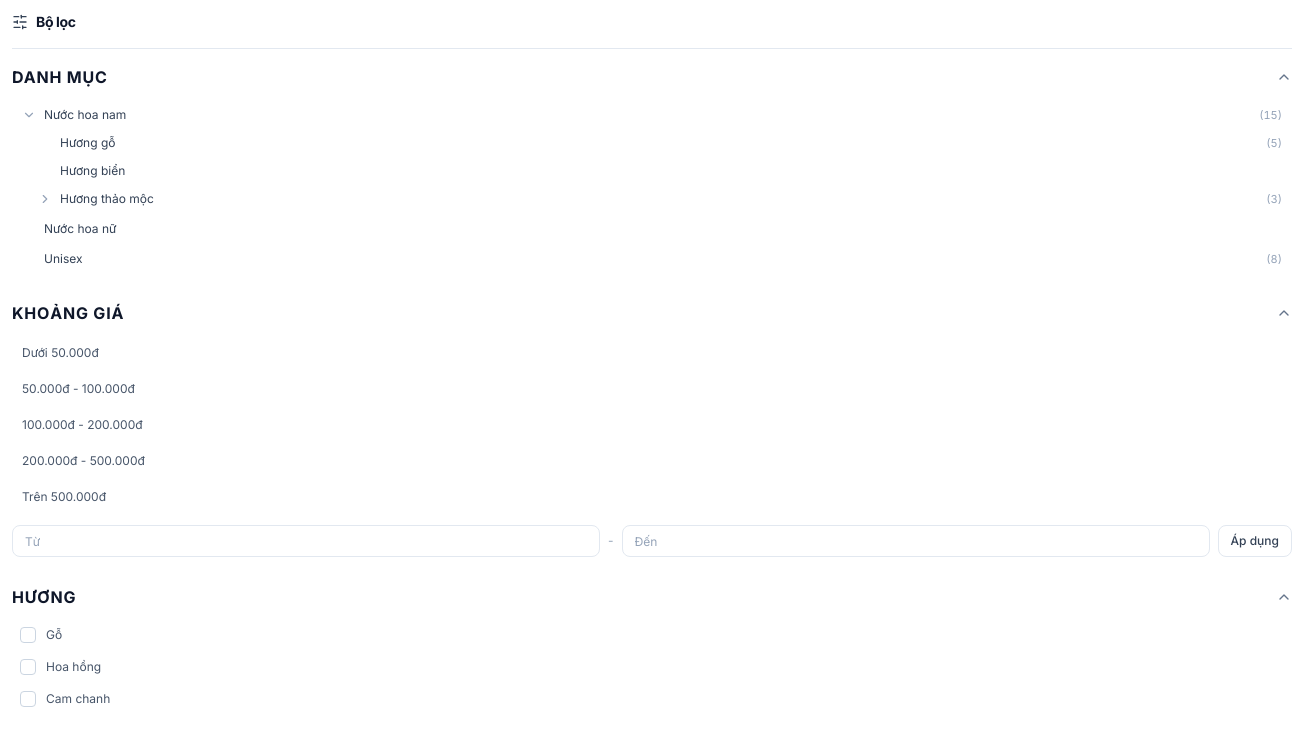
FilterSidebar › CategoryTreeItem and category selection › collapses and re-expands a depth 0 category with children on click
The width and height of the screenshot is (1304, 730).
Expected: the text "Hương gỗ" is shown, [60, 135, 116, 150]
// Click to collapse
Click the button "Nước hoa nam (15)".
click(85, 114)  # box [14, 101, 1292, 129]
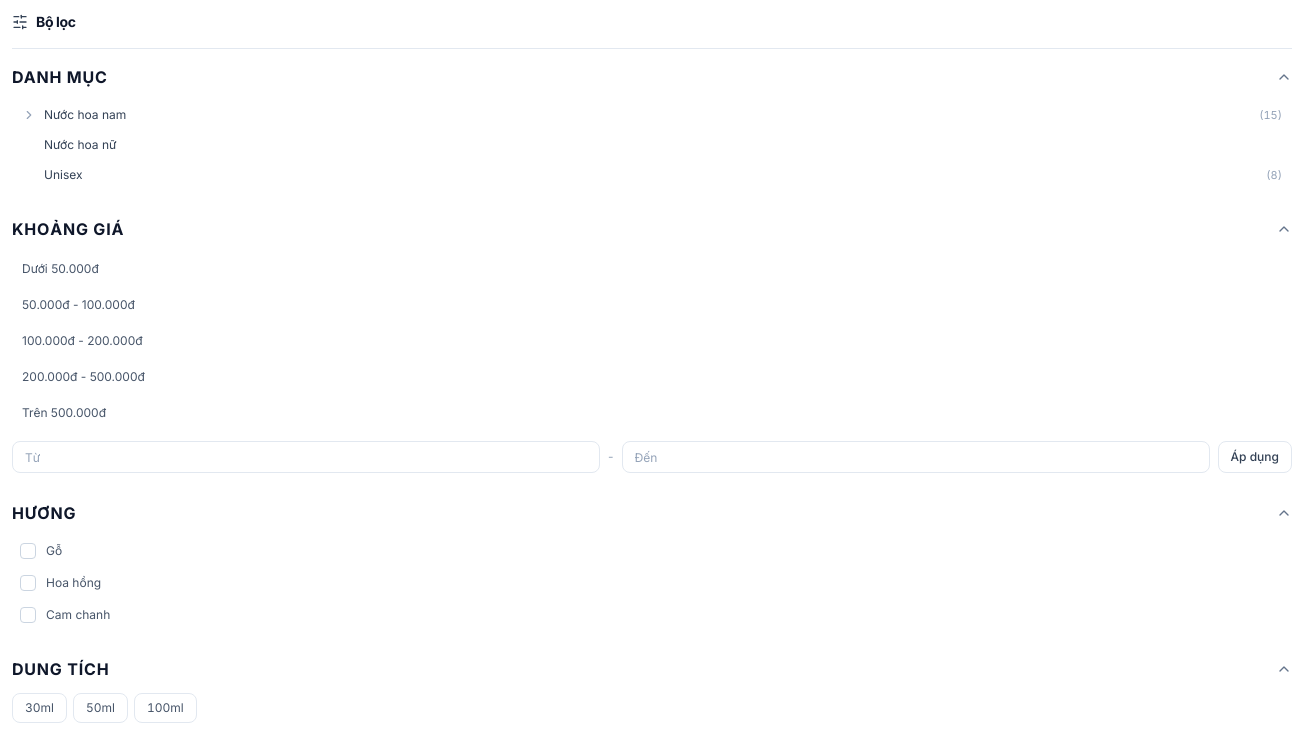
// Click to re-expand
Click the button "Nước hoa nam (15)".
click(85, 114)  # box [14, 101, 1292, 129]
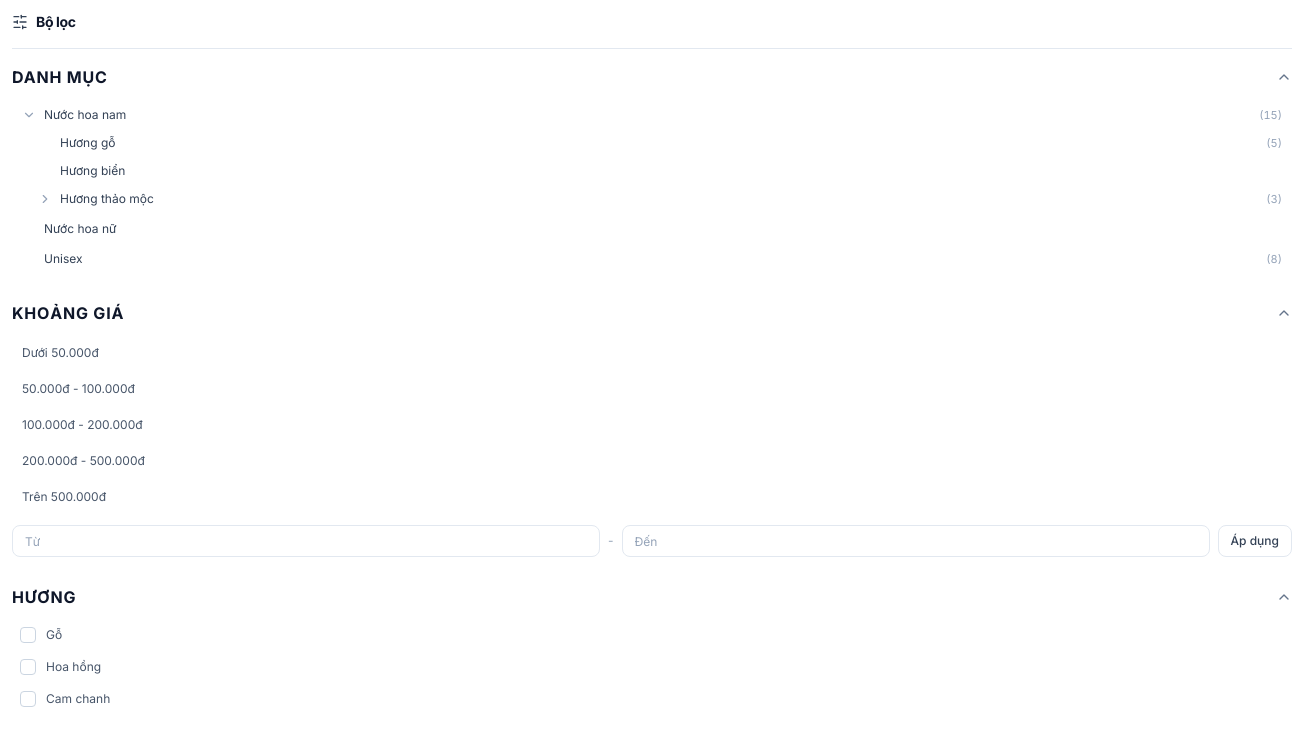
Expected: the text "Hương gỗ" is shown, [60, 135, 116, 150]
